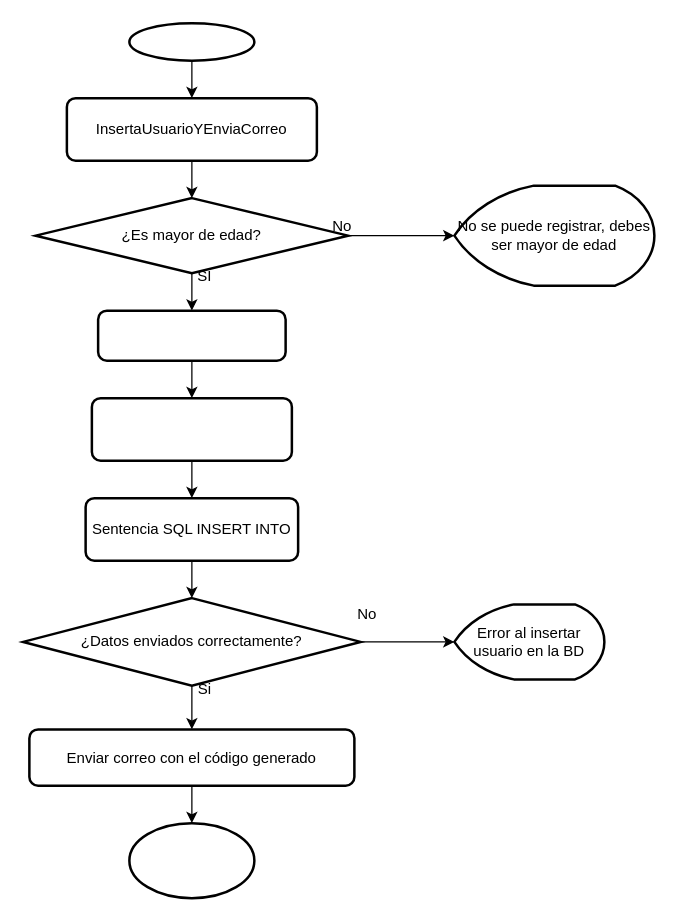
The diagram is 676 pixels wide and 920 high, and some of its shapes have lost their labels. The box of each missing label's shape, as (x1, y1, x2, y2) in pixels:
Dar formato a fecha para SQL Server: (90, 396, 292, 461)
Fin: (128, 821, 255, 899)
Generar código aleatorio: (96, 309, 286, 361)
Inicio: (128, 21, 255, 61)
